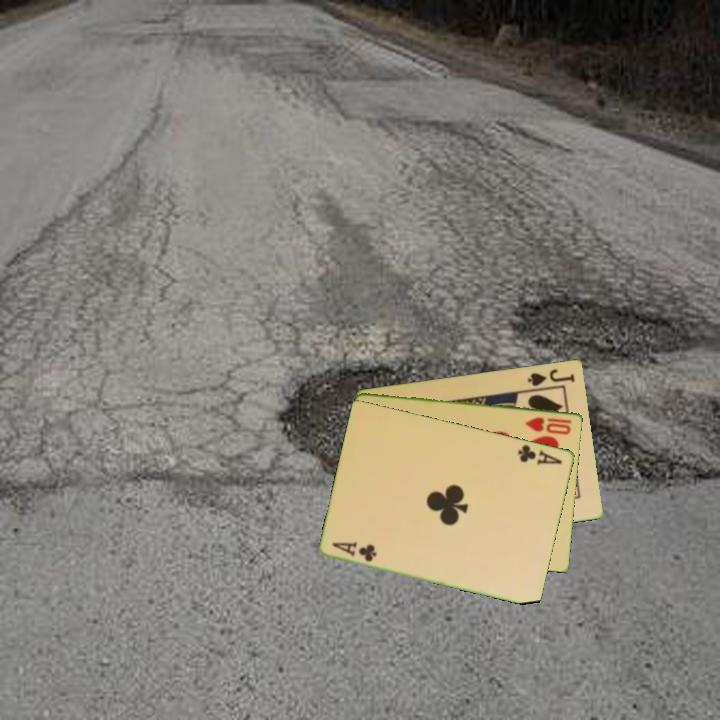10h: (522, 413, 575, 437)
Ac: (515, 441, 565, 468), (329, 538, 380, 564)
Js: (524, 365, 578, 389)
